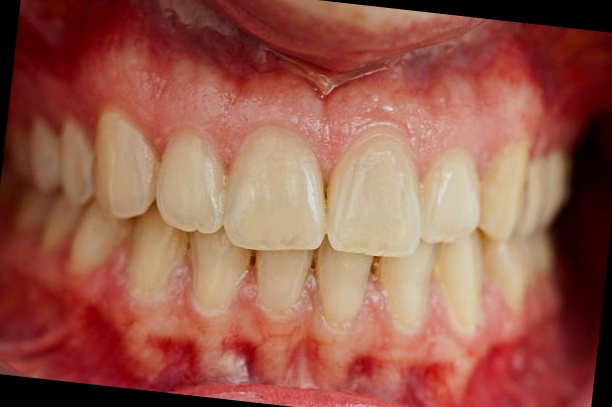Gingivitis: (39, 0, 282, 89), (0, 285, 134, 372), (134, 320, 211, 388), (393, 35, 488, 90), (213, 327, 271, 386), (334, 341, 388, 389)
